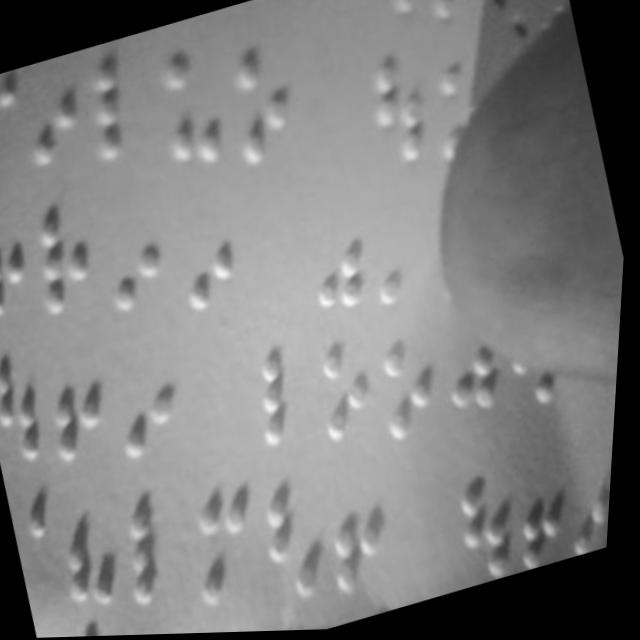braiile: (142, 40, 244, 184), (215, 40, 320, 177), (358, 45, 453, 187), (37, 339, 133, 478), (289, 195, 387, 328), (183, 486, 281, 618), (109, 340, 202, 478), (320, 476, 417, 606), (55, 496, 148, 629), (72, 45, 168, 173), (114, 491, 207, 620), (23, 192, 118, 318), (6, 61, 100, 187), (254, 488, 345, 615), (310, 336, 402, 461), (370, 329, 462, 454), (167, 199, 255, 325), (95, 204, 183, 324), (248, 344, 332, 459), (453, 474, 533, 589), (0, 357, 67, 484), (0, 191, 57, 333), (0, 211, 1, 336)
